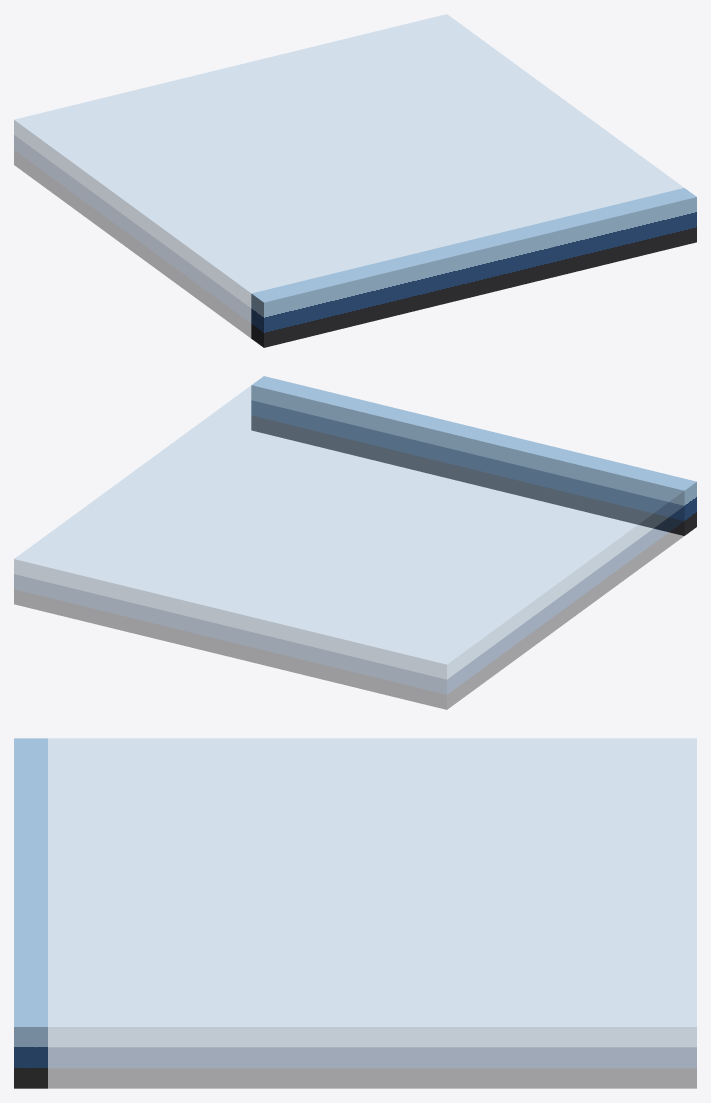
The model's file is glass_table_top_tee.glb.
The picture shows the model from 3 angles, top to bottom: view 1: azimuth 30°, elevation 25°; view 2: azimuth 150°, elevation 25°; view 3: azimuth 270°, elevation 25°; orthographic projection. The views are drawn at different scales.
Visible parts, largest first — view 1: glass_table_top_tee; view 2: glass_table_top_tee; view 3: glass_table_top_tee.
Boxes of the visible parts, x1,y1,x2,y2 form: glass_table_top_tee: (14, 14, 696, 347); glass_table_top_tee: (14, 376, 696, 709); glass_table_top_tee: (14, 738, 696, 1088).
Bounding box in the file's own units: 0.9 × 0.09 × 0.9.
2 materials, 2 textured.
